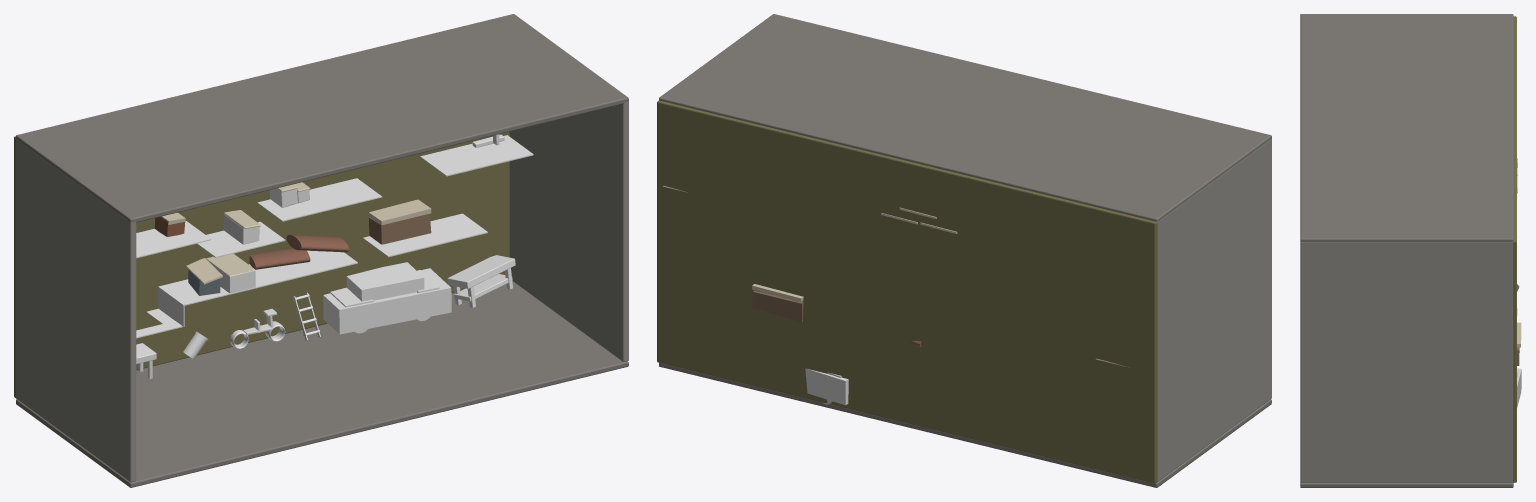
File: Cochera.fbx
3 renders of one model, left to right at view 1: azimuth 30°, elevation 25°; view 2: azimuth 150°, elevation 25°; view 3: azimuth 270°, elevation 25°, orthographic. The views are drawn at different scales.
Parts seen in each view (by area): view 1: techo, piso, paredizq, pared, paredder, Carro.007, tubos, tubos.001, tubos.006, Caja6, Banca, tubos.019 (+8 smaller); view 2: pared, techo, paredizq, piso, Caja6, Carro.007; view 3: paredder, techo, pared, piso.
Boxes of the visible parts, left/top/right/bottom form: techo: left=16, top=14, right=628, bottom=222; piso: left=16, top=281, right=628, bottom=487; paredizq: left=15, top=139, right=136, bottom=482; pared: left=14, top=131, right=509, bottom=397; paredder: left=509, top=101, right=628, bottom=361; Carro.007: left=323, top=262, right=451, bottom=334; tubos: left=158, top=250, right=357, bottom=305; tubos.001: left=257, top=178, right=382, bottom=221; tubos.006: left=420, top=135, right=533, bottom=176; Caja6: left=368, top=199, right=431, bottom=244; Banca: left=447, top=255, right=515, bottom=307; tubos.019: left=363, top=213, right=487, bottom=257; pared: left=657, top=100, right=1157, bottom=483; techo: left=659, top=14, right=1271, bottom=222; paredizq: left=1157, top=138, right=1271, bottom=481; piso: left=659, top=362, right=1271, bottom=487; Caja6: left=752, top=284, right=803, bottom=322; Carro.007: left=805, top=368, right=848, bottom=405; paredder: left=1300, top=242, right=1512, bottom=482; techo: left=1300, top=14, right=1513, bottom=241; pared: left=1513, top=16, right=1516, bottom=482; piso: left=1300, top=482, right=1513, bottom=487.
Bounding box in the file's own units: 2001 × 1032 × 831.
